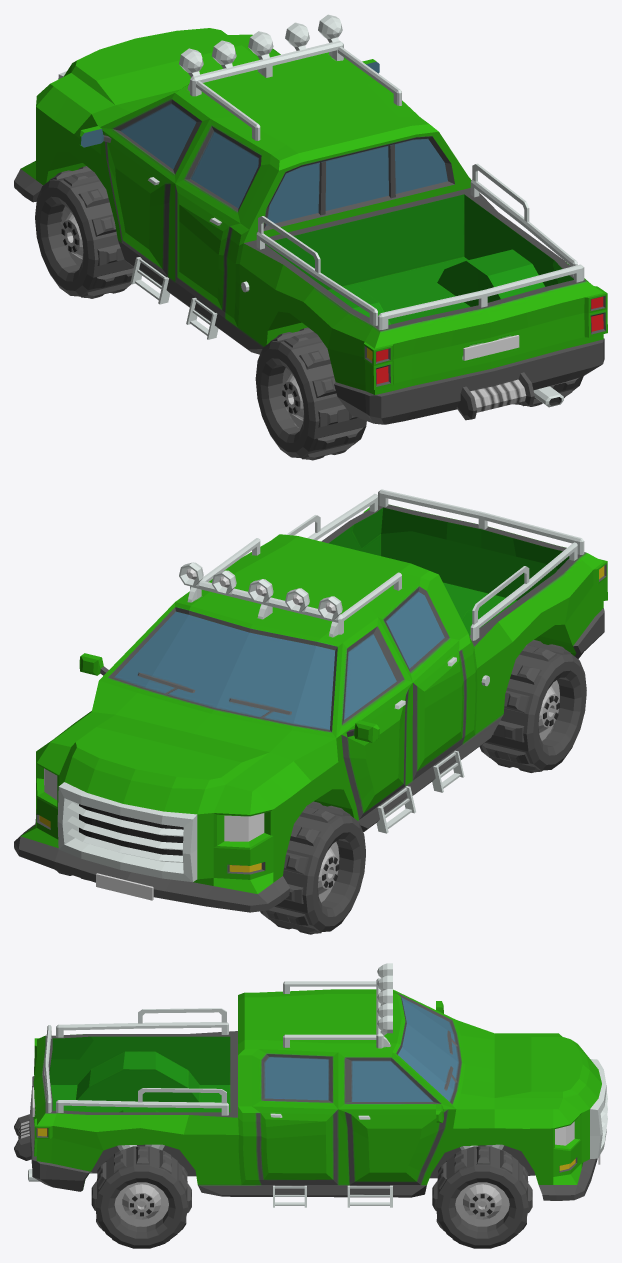
The model's file is low_poly_pickup_truck_v3.glb.
3 views of the same model, one above another, from view 1: azimuth 30°, elevation 25°; view 2: azimuth 150°, elevation 25°; view 3: azimuth 270°, elevation 25° (orthographic). The views are drawn at different scales.
Parts seen in each view (by area): view 1: kar_6_.002; view 2: kar_6_.002; view 3: kar_6_.002.
Part boxes in pixels (x1,y1,x2,y2): kar_6_.002: (14, 14, 607, 460); kar_6_.002: (14, 489, 607, 934); kar_6_.002: (14, 963, 607, 1248).
Bounding box in the file's own units: 0.7265 × 0.6409 × 1.62.
Materials: 2 (2 with a texture image).
